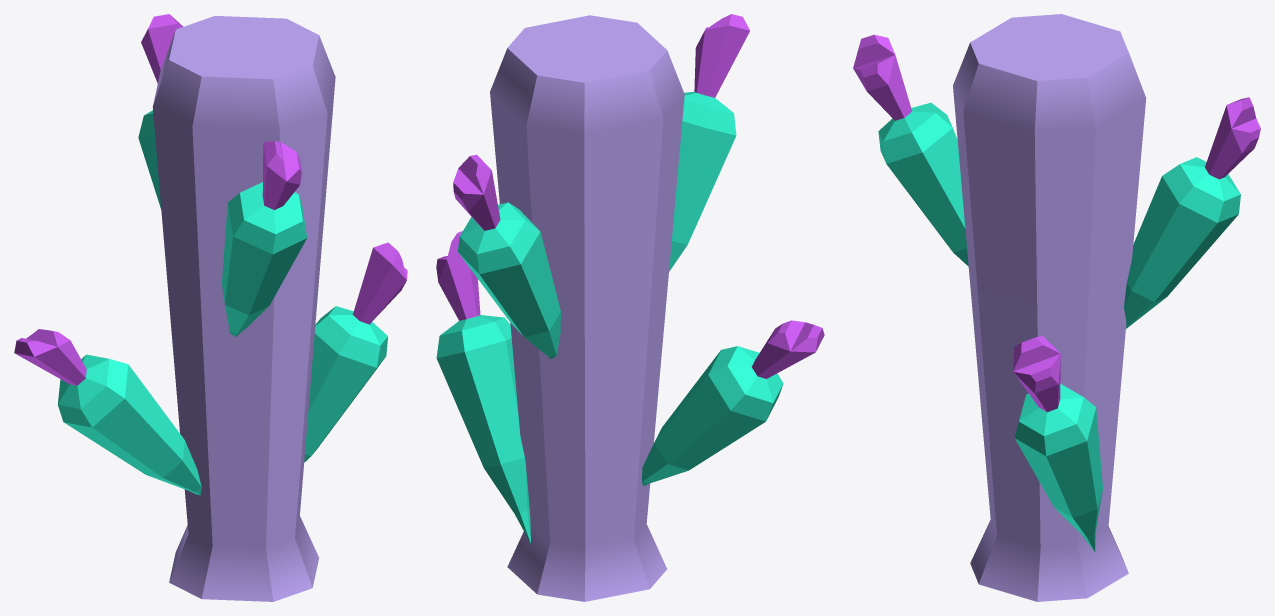
Rendered from 028_Carrot.fbx.
The picture shows the model from 3 angles, left to right: view 1: azimuth 30°, elevation 25°; view 2: azimuth 150°, elevation 25°; view 3: azimuth 270°, elevation 25°; orthographic projection.
Parts seen in each view (by area): view 1: carrot3; view 2: carrot3; view 3: carrot3.
Part boxes in pixels (x1,y1,x2,y2): carrot3: (14, 14, 407, 601); carrot3: (436, 14, 824, 601); carrot3: (853, 14, 1260, 601).
Size of the model in its own units: 76.88 by 100 by 70.97.
